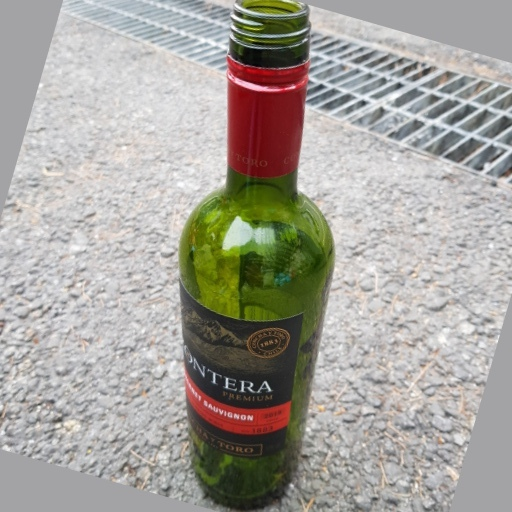Glass_2: (177, 2, 338, 512)
